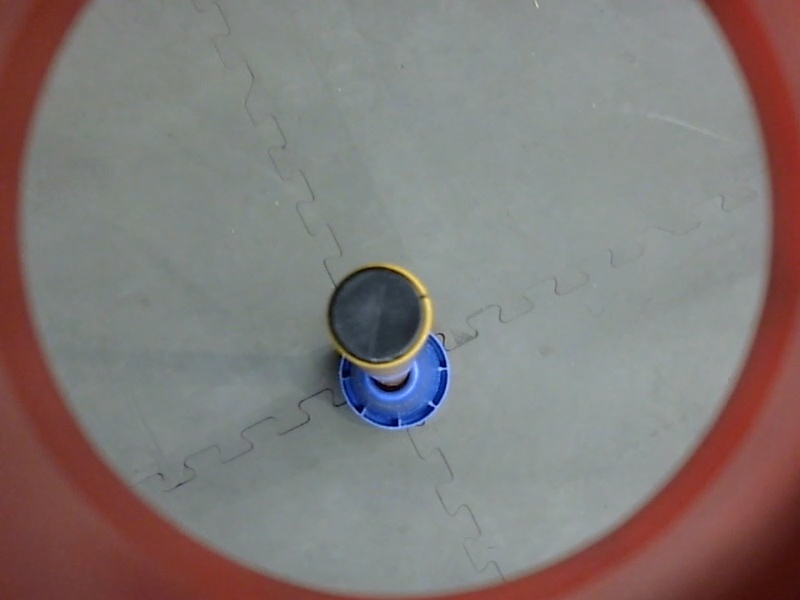tip: (324, 259, 435, 375)
